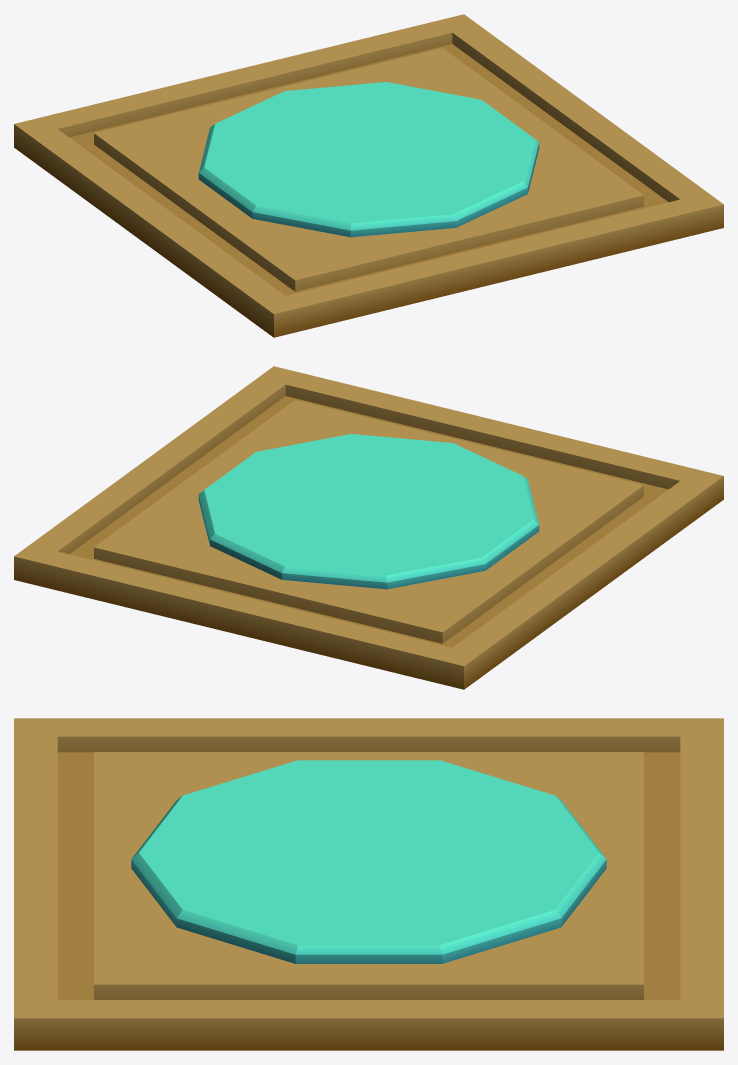
Rendered from Enviroment__Switch_002.fbx.
3 views of the same model, one above another, from view 1: azimuth 30°, elevation 25°; view 2: azimuth 150°, elevation 25°; view 3: azimuth 270°, elevation 25° (orthographic). The views are drawn at different scales.
Visible parts, largest first — view 1: Cube.019, Cylinder.004; view 2: Cube.019, Cylinder.004; view 3: Cube.019, Cylinder.004.
Part boxes in pixels (<box>): Cube.019: <box>14,14,723,337</box>; Cylinder.004: <box>198,82,539,237</box>; Cube.019: <box>14,366,723,689</box>; Cylinder.004: <box>198,434,539,589</box>; Cube.019: <box>14,718,723,1050</box>; Cylinder.004: <box>131,760,606,963</box>.
Bounding box in the file's own units: 20 × 1.49 × 20.
